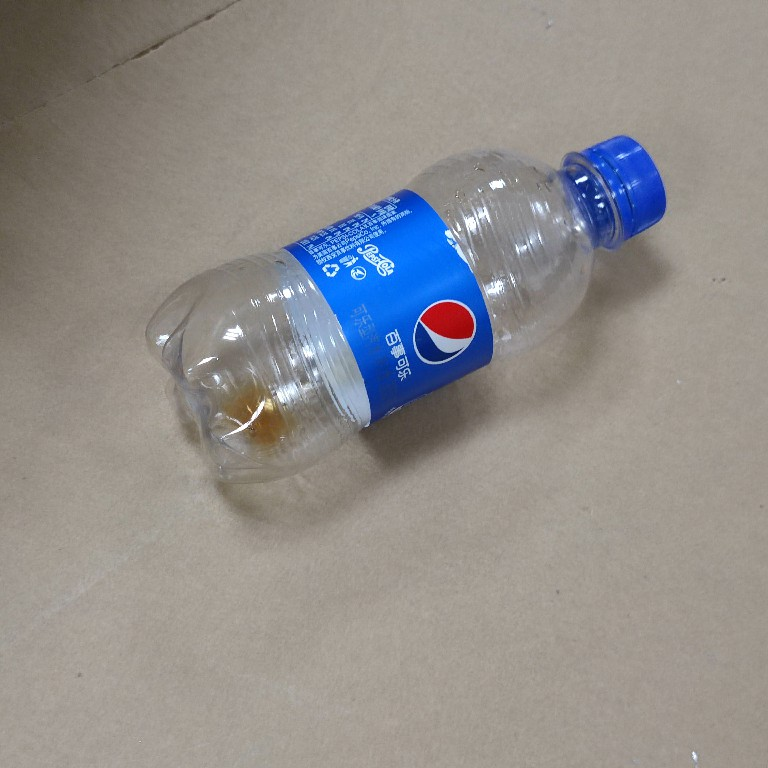bottle: (134, 126, 675, 475)
